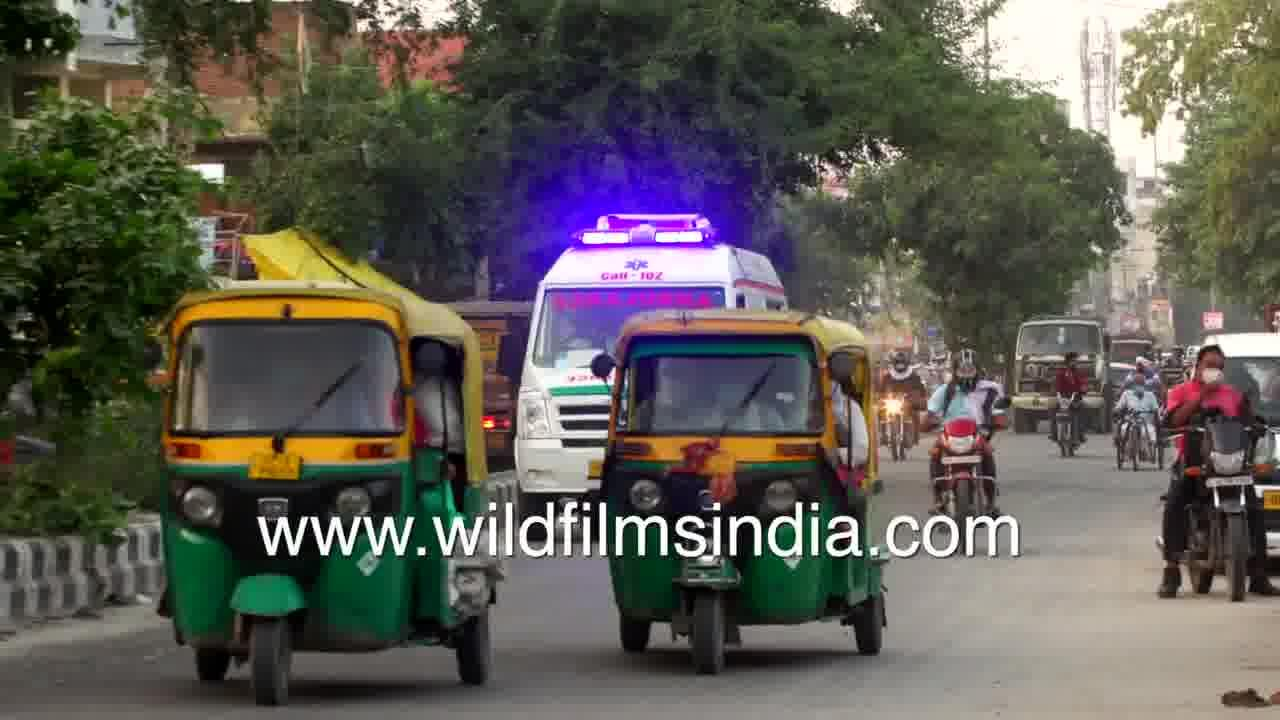AMBULANCE: (521, 201, 794, 316)
